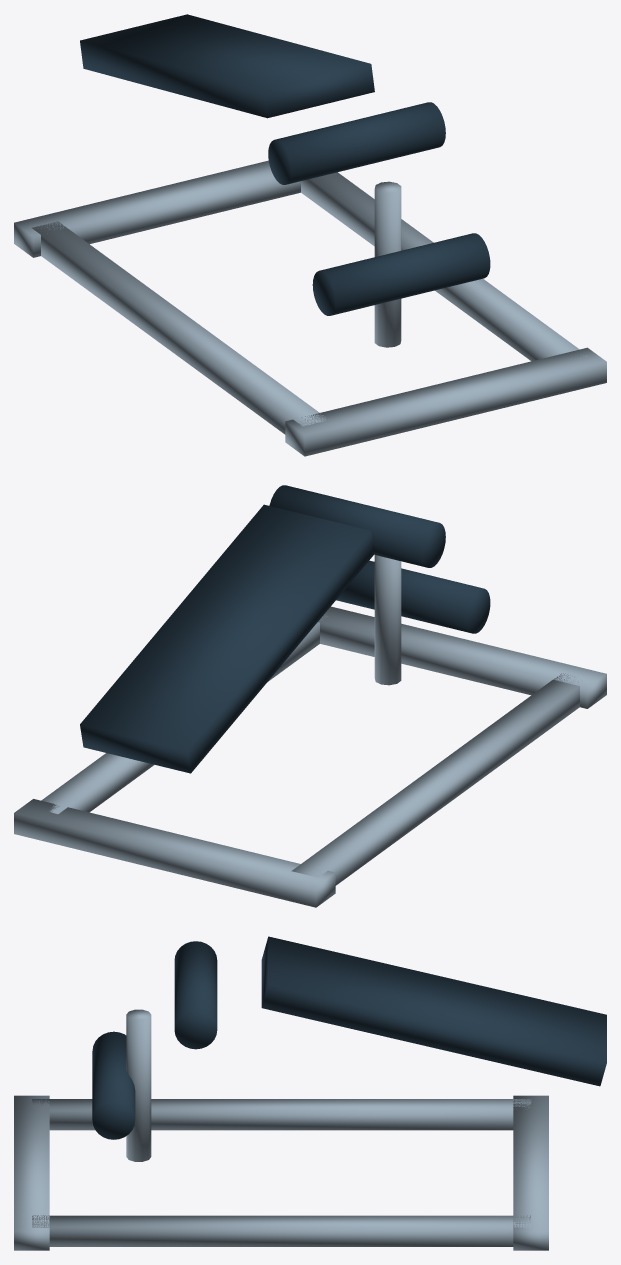
Rendered from machine_b_decline_barbell_bench_press.glb.
The picture shows the model from 3 angles, top to bottom: view 1: azimuth 30°, elevation 25°; view 2: azimuth 150°, elevation 25°; view 3: azimuth 270°, elevation 25°; orthographic projection. The views are drawn at different scales.
Parts seen in each view (by area): view 1: base, decline_pad, knee_roller, ankle_roller, leg_frame; view 2: base, decline_pad, knee_roller, ankle_roller, leg_frame; view 3: base, decline_pad, knee_roller, ankle_roller, leg_frame.
Part boxes in pixels (x1,y1,x2,y2): base: (14, 160, 606, 456); decline_pad: (80, 14, 374, 118); knee_roller: (268, 102, 445, 184); ankle_roller: (312, 233, 490, 315); leg_frame: (374, 181, 401, 347); base: (14, 606, 606, 907); decline_pad: (80, 504, 374, 773); knee_roller: (269, 485, 445, 567); ankle_roller: (336, 560, 490, 633); leg_frame: (374, 555, 401, 685); base: (14, 1095, 548, 1250); decline_pad: (261, 936, 606, 1086); knee_roller: (174, 941, 217, 1049); ankle_roller: (92, 1031, 135, 1139); leg_frame: (126, 1009, 151, 1161).
Bounding box in the file's own units: 0.9 × 0.6875 × 1.66.
